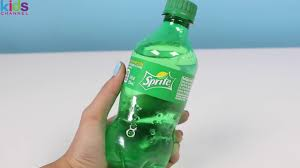sprite_bottle: (125, 1, 198, 168)
